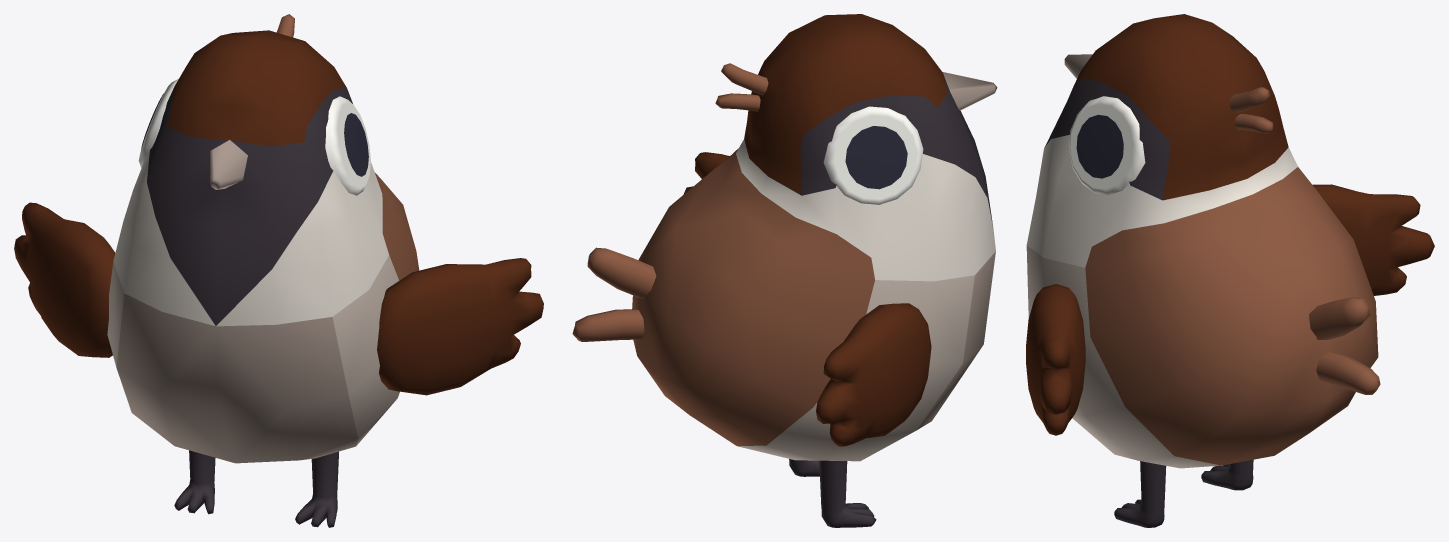
File: Bird.glb
3 renders of one model, left to right at view 1: azimuth 30°, elevation 25°; view 2: azimuth 150°, elevation 25°; view 3: azimuth 270°, elevation 25°, orthographic.
Visible parts, largest first — view 1: Sparrow_LOD1.005; view 2: Sparrow_LOD1.005; view 3: Sparrow_LOD1.005.
Boxes of the visible parts, <box> form: Sparrow_LOD1.005: <box>14,14,543,527</box>; Sparrow_LOD1.005: <box>572,14,997,527</box>; Sparrow_LOD1.005: <box>1026,14,1434,527</box>.
Size of the model in its own units: 0.5274 by 0.6727 by 0.5274.
Materials: 1 (1 with a texture image).
